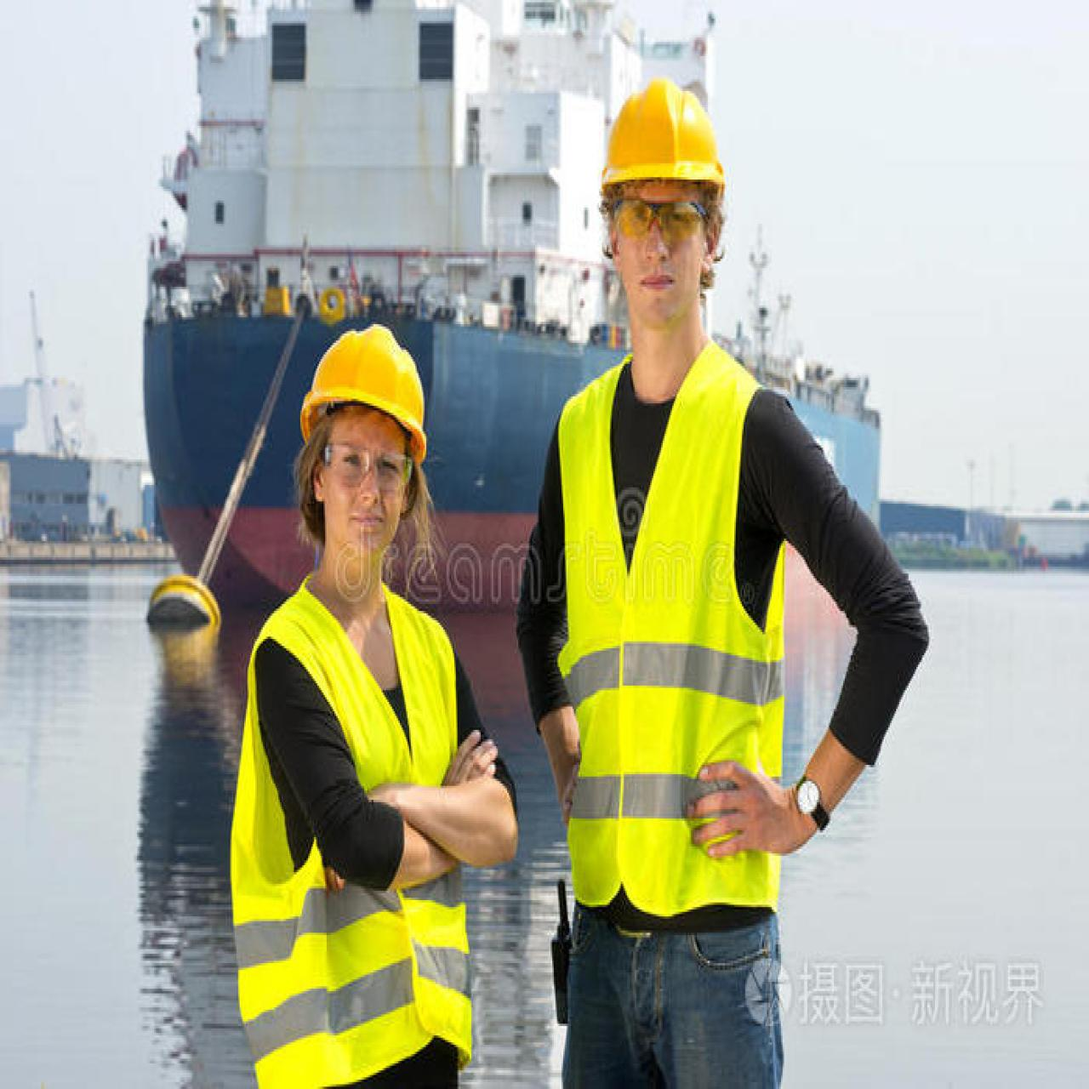Person: (512, 60, 948, 1073), (215, 294, 535, 1089)
Safety_Vest: (547, 350, 793, 931), (228, 578, 470, 1089)
